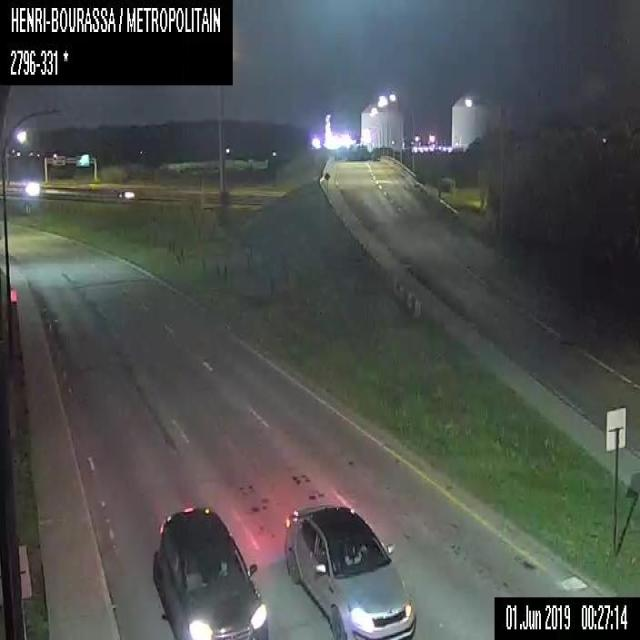vehicle: (282, 498, 416, 638), (151, 505, 268, 639), (22, 180, 40, 196), (116, 188, 134, 200)
